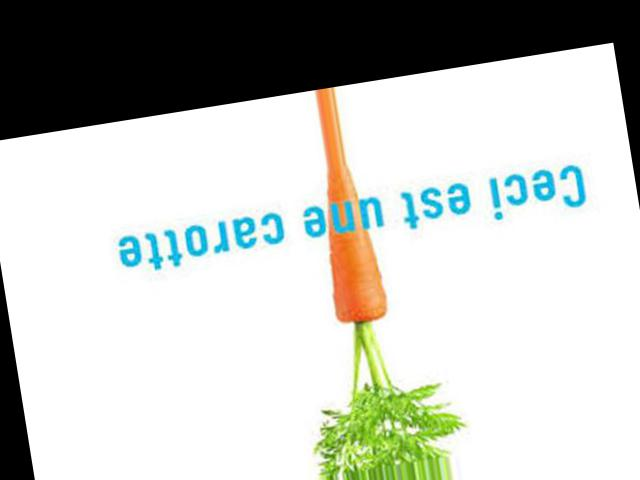carrot: (293, 156, 403, 338)
